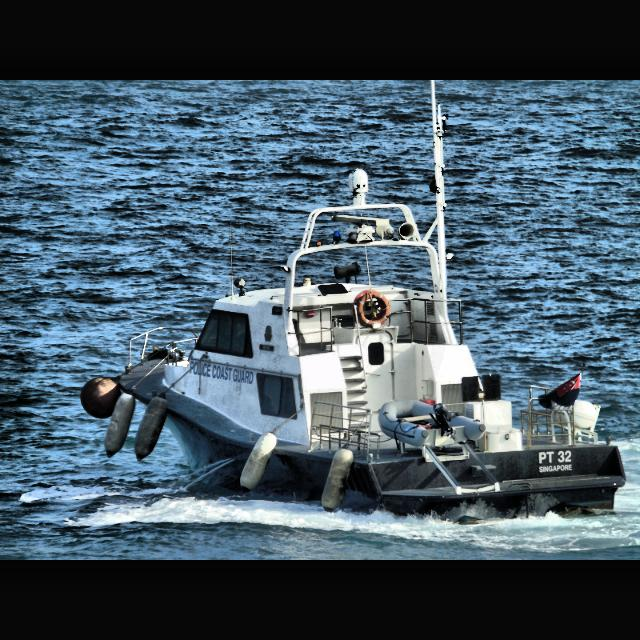patrol_vessel: (104, 160, 630, 526)
